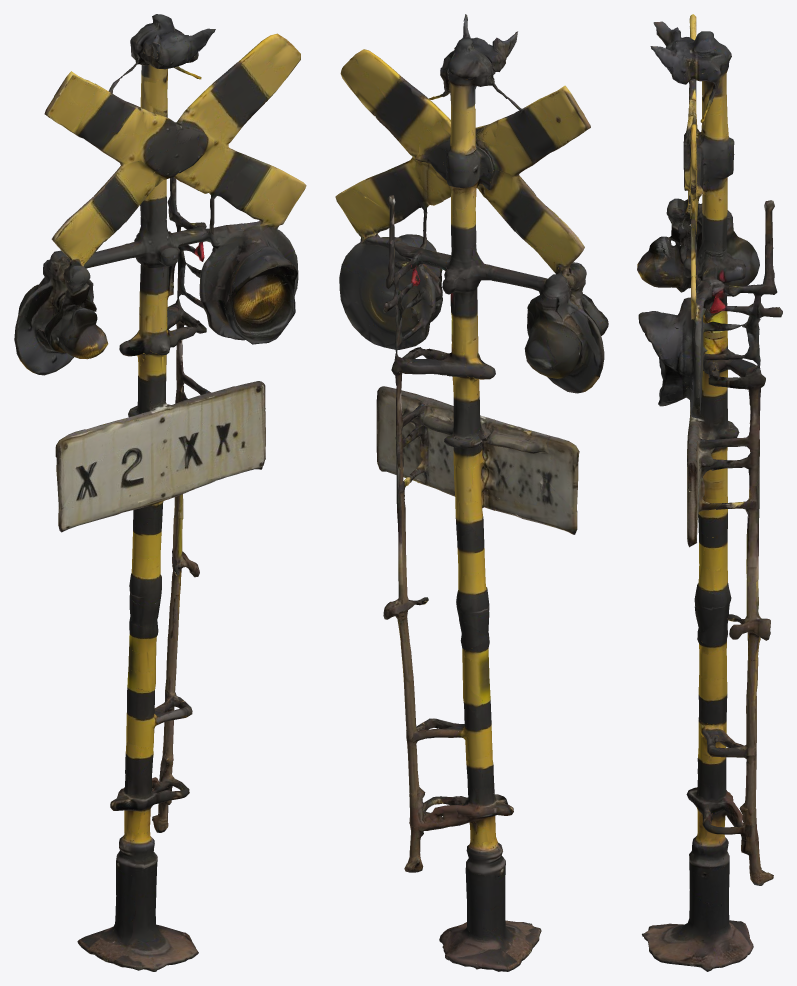
Rendered from crossing_signal.glb.
The picture shows the model from 3 angles, left to right: view 1: azimuth 30°, elevation 25°; view 2: azimuth 150°, elevation 25°; view 3: azimuth 270°, elevation 25°; orthographic projection. The views are drawn at different scales.
Visible parts, largest first — view 1: crossing_signal; view 2: crossing_signal; view 3: crossing_signal.
Boxes of the visible parts, left/top/right/bottom form: crossing_signal: left=14, top=14, right=306, bottom=971; crossing_signal: left=335, top=14, right=608, bottom=971; crossing_signal: left=637, top=14, right=782, bottom=971.
Size of the model in its own units: 1.21 by 3.8 by 0.541.
Materials: 1 (1 with a texture image).
